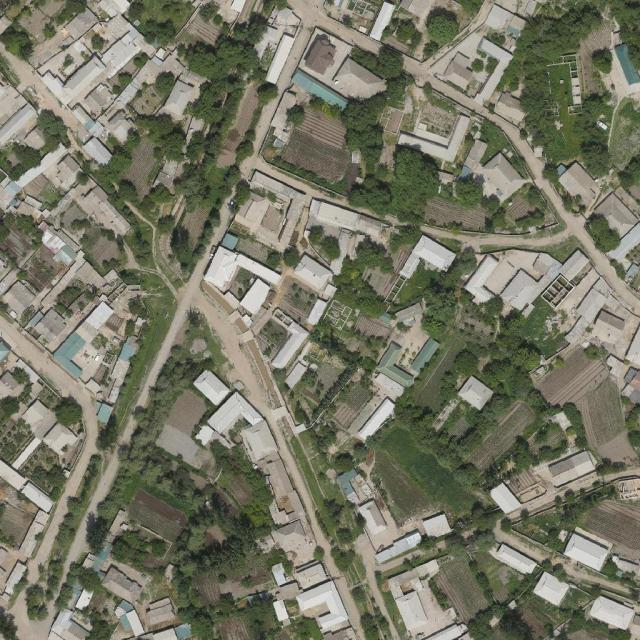agricultural_land: (280, 105, 365, 186), (280, 105, 365, 186), (572, 376, 638, 473), (534, 341, 613, 418), (429, 551, 495, 625), (214, 81, 265, 172), (280, 129, 354, 187), (0, 276, 43, 323), (0, 501, 36, 549), (415, 102, 458, 140), (339, 12, 357, 29)
building: (462, 242, 563, 318), (231, 170, 311, 248), (395, 97, 471, 165), (39, 39, 107, 107), (453, 36, 515, 107), (250, 452, 307, 528), (17, 398, 80, 460), (468, 148, 529, 208), (55, 0, 133, 45), (206, 391, 265, 450), (69, 81, 128, 139), (295, 579, 351, 639), (329, 57, 390, 112), (307, 198, 386, 238), (460, 252, 513, 309), (95, 26, 149, 81), (100, 333, 141, 405), (374, 340, 427, 391), (0, 176, 47, 231), (556, 161, 605, 210), (556, 267, 603, 318), (498, 268, 545, 315), (355, 396, 400, 445), (98, 563, 147, 607), (573, 275, 616, 325), (301, 30, 345, 78), (546, 448, 598, 488), (372, 528, 425, 567), (562, 531, 611, 573), (488, 539, 538, 580), (587, 593, 637, 633), (237, 419, 280, 464), (29, 306, 72, 350), (270, 325, 310, 372), (160, 78, 201, 123), (203, 246, 243, 292), (394, 589, 433, 636), (291, 254, 335, 294), (233, 252, 283, 287), (17, 509, 52, 559), (263, 32, 296, 85), (483, 3, 527, 42), (412, 235, 457, 273), (588, 308, 628, 348), (111, 597, 148, 640), (192, 368, 231, 407), (456, 374, 495, 412), (442, 50, 480, 89), (267, 90, 299, 136), (532, 570, 571, 607), (335, 467, 371, 507), (238, 277, 274, 316), (1, 279, 38, 316), (49, 154, 86, 191), (355, 498, 389, 538), (104, 107, 140, 144), (487, 482, 523, 518), (19, 481, 57, 515), (612, 41, 640, 87), (408, 337, 441, 374), (557, 249, 591, 282), (141, 596, 176, 627), (376, 340, 405, 375), (1, 560, 29, 596), (422, 619, 469, 640), (0, 460, 28, 492), (295, 563, 328, 590), (421, 512, 452, 540), (38, 229, 66, 256), (261, 205, 285, 233), (124, 608, 146, 638), (306, 298, 328, 327), (194, 423, 217, 447), (74, 589, 95, 613), (94, 402, 114, 425), (236, 197, 252, 218), (321, 283, 338, 301)
dryland: (203, 296, 288, 417), (0, 38, 79, 138), (350, 532, 400, 620), (199, 279, 236, 317)
greenland: (0, 127, 132, 286), (497, 0, 601, 168), (85, 270, 185, 433), (279, 427, 373, 558), (401, 306, 498, 417), (377, 422, 479, 524), (510, 479, 640, 557), (347, 134, 449, 231), (464, 308, 545, 389), (353, 447, 431, 528), (50, 449, 105, 549), (168, 150, 247, 217), (183, 63, 251, 135), (325, 257, 398, 322), (449, 389, 516, 459), (134, 99, 199, 168), (336, 89, 388, 173), (183, 34, 261, 84), (18, 441, 79, 501), (569, 110, 619, 180), (183, 72, 240, 133), (347, 35, 409, 85), (289, 67, 350, 114), (415, 278, 460, 341), (110, 527, 170, 574), (349, 579, 394, 640), (337, 91, 393, 135), (51, 331, 101, 380), (418, 1, 466, 49), (580, 207, 624, 256), (402, 402, 443, 454), (0, 85, 35, 143), (135, 181, 177, 224), (170, 159, 211, 203), (456, 138, 490, 183), (90, 413, 127, 454), (351, 234, 390, 272), (521, 218, 568, 249), (79, 134, 118, 169), (385, 220, 425, 253), (502, 366, 537, 403), (379, 68, 414, 105), (450, 346, 484, 381), (325, 539, 359, 573), (115, 157, 148, 191), (182, 128, 211, 165), (0, 420, 28, 458), (149, 67, 180, 101), (85, 301, 115, 332), (346, 125, 383, 150), (523, 386, 551, 417), (591, 47, 616, 76), (195, 0, 221, 24), (170, 225, 189, 255), (319, 237, 340, 261)
metalled_road: (19, 441, 78, 499)
unmetalled_road: (474, 94, 586, 231), (525, 199, 640, 315), (134, 257, 211, 407), (265, 413, 329, 545), (17, 440, 78, 500), (427, 76, 476, 112), (0, 421, 20, 460), (468, 234, 511, 249), (543, 181, 554, 201)
